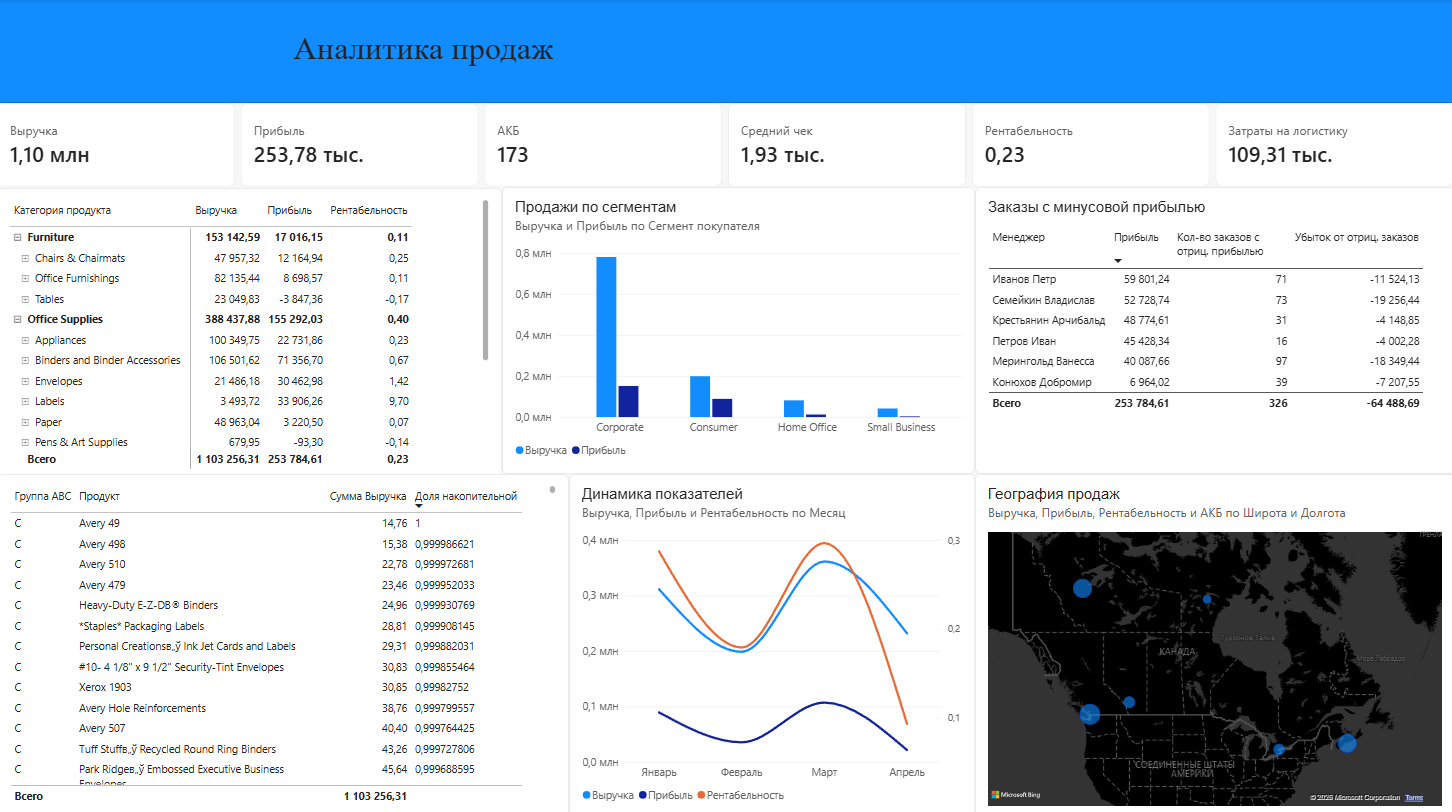

The page's visual inventory and layout, read from the dashboard file:
{"tool":"powerbi","page":{"name":"Страница 1","canvas":[1920,1080],"ordinal":0},"visuals":[{"type":"lineChart","title":"Динамика показателей","fields":{"Category":["Календарь.Дата.Изменение.Иерархия дат.Год","Календарь.Дата.Изменение.Иерархия дат.Квартал","Календарь.Дата.Изменение.Иерархия дат.Месяц"],"Y":["_Меры.Выручка","_Меры.Прибыль"],"Y2":["_Меры.Рентабельность"]},"box":[753.4,625.6,534.7,454.4],"z":0},{"type":"clusteredColumnChart","title":"Продажи по сегментам","fields":{"Category":["СПР_покупатели.Сегмент покупателя"],"Y":["_Меры.Выручка","_Меры.Прибыль"]},"box":[665.1,247.6,623,378],"z":1},{"type":"pivotTable","fields":{"Rows":["СПР_продукты.Категория продукта","СПР_продукты.Подкатегория продукта","СПР_продукты.Продукт"],"Values":["_Меры.Выручка","_Меры.Прибыль","_Меры.Рентабельность"]},"box":[0,248.9,665.1,387.2],"z":2},{"type":"map","title":"География продаж","fields":{"Size":["_Меры.Выручка"],"X":["СПР_Менеджеры.Долгота"],"Y":["СПР_Менеджеры.Широта"]},"box":[1288.1,625.6,632.2,454.4],"z":3},{"type":"tableEx","fields":{"Values":["ABC_Продукты.Группа ABC","ABC_Продукты.Продукт","Sum(ABC_Продукты.Выручка)","ABC_Продукты.Доля накопительной"]},"box":[0,625.6,753.4,454.4],"z":4},{"type":"tableEx","title":"Заказы с минусовой прибылью","fields":{"Values":["СПР_Менеджеры.Менеджер","_Меры.Прибыль","_Меры.Кол-во заказов с отриц. прибылью","_Меры.Убыток от отриц. заказов"]},"box":[1288.1,247.6,632.2,378],"z":5},{"type":"actionButton","box":[0,0,100,40],"z":6},{"type":"shape","box":[0,0,1920.3,137],"z":7},{"type":"textbox","box":[279.2,39.5,565,76.4],"z":8},{"type":"cardVisual","fields":{"Data":["_Меры.Выручка","_Меры.Прибыль","_Меры.АКБ","_Меры.Средний чек","_Меры.Рентабельность","_Меры.Затраты на логистику"]},"box":[0,137,1920.3,110.6],"z":9}]}

Visuals, with their boxes in screenshot pixels (x1, y1, x2, y2), scaled from the page's 1920x1080 canvas onto the 1452x812 screenshot:
"Динамика показателей" lineChart: [570, 470, 974, 811]
"Продажи по сегментам" clusteredColumnChart: [503, 186, 974, 470]
pivotTable - СПР_продукты.Категория продукта x СПР_продукты.Подкатегория продукта: [0, 187, 503, 478]
"География продаж" map: [974, 470, 1451, 811]
tableEx - ABC_Продукты.Группа ABC x ABC_Продукты.Продукт: [0, 470, 570, 811]
"Заказы с минусовой прибылью" tableEx: [974, 186, 1451, 470]
actionButton: [0, 0, 76, 30]
shape: [0, 0, 1451, 103]
textbox: [211, 30, 638, 87]
cardVisual - _Меры.Выручка x _Меры.Прибыль: [0, 103, 1451, 186]
